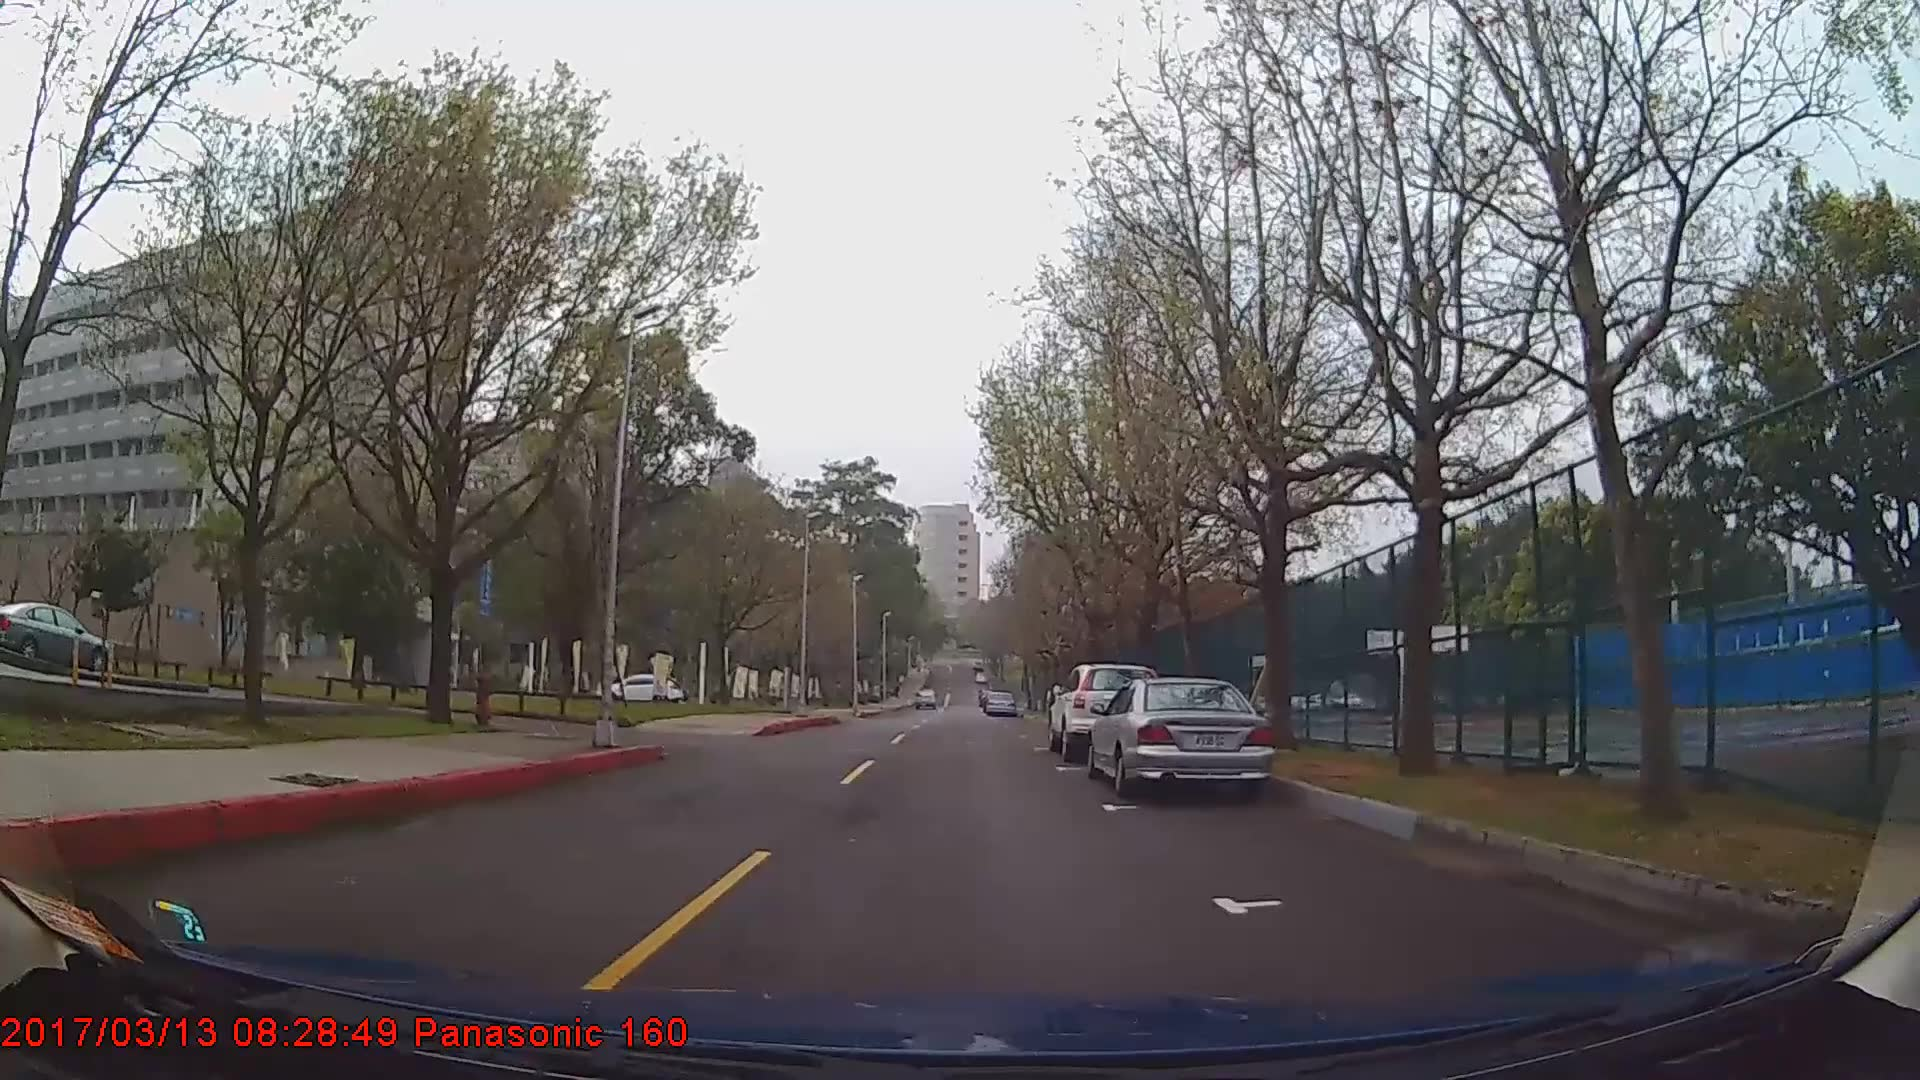vehicle: (1083, 675, 1273, 793), (1048, 663, 1155, 767), (0, 603, 113, 674), (601, 673, 684, 704), (982, 688, 1015, 716)
